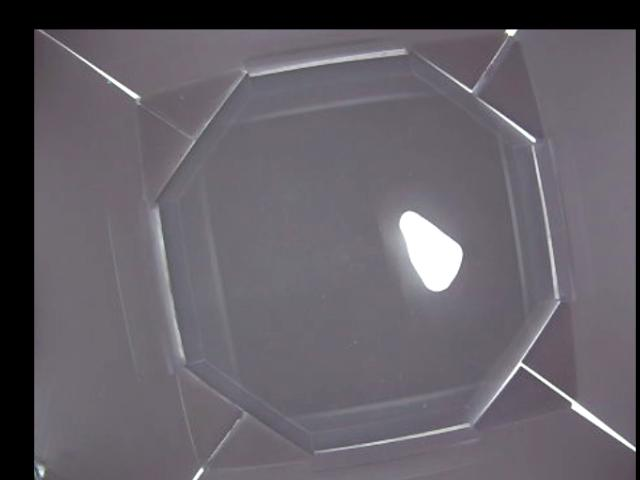Pebble: (399, 209, 465, 289)
